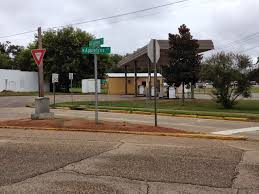yield_sign: (31, 49, 47, 66)
